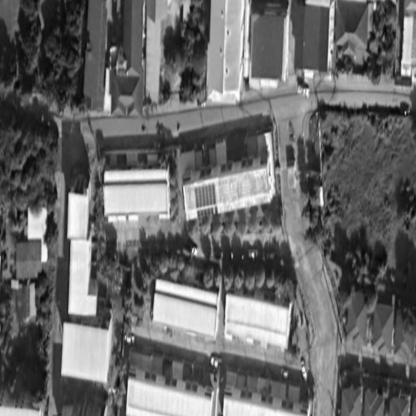solar-pv-panel: (195, 184, 216, 208), (197, 206, 218, 217)
